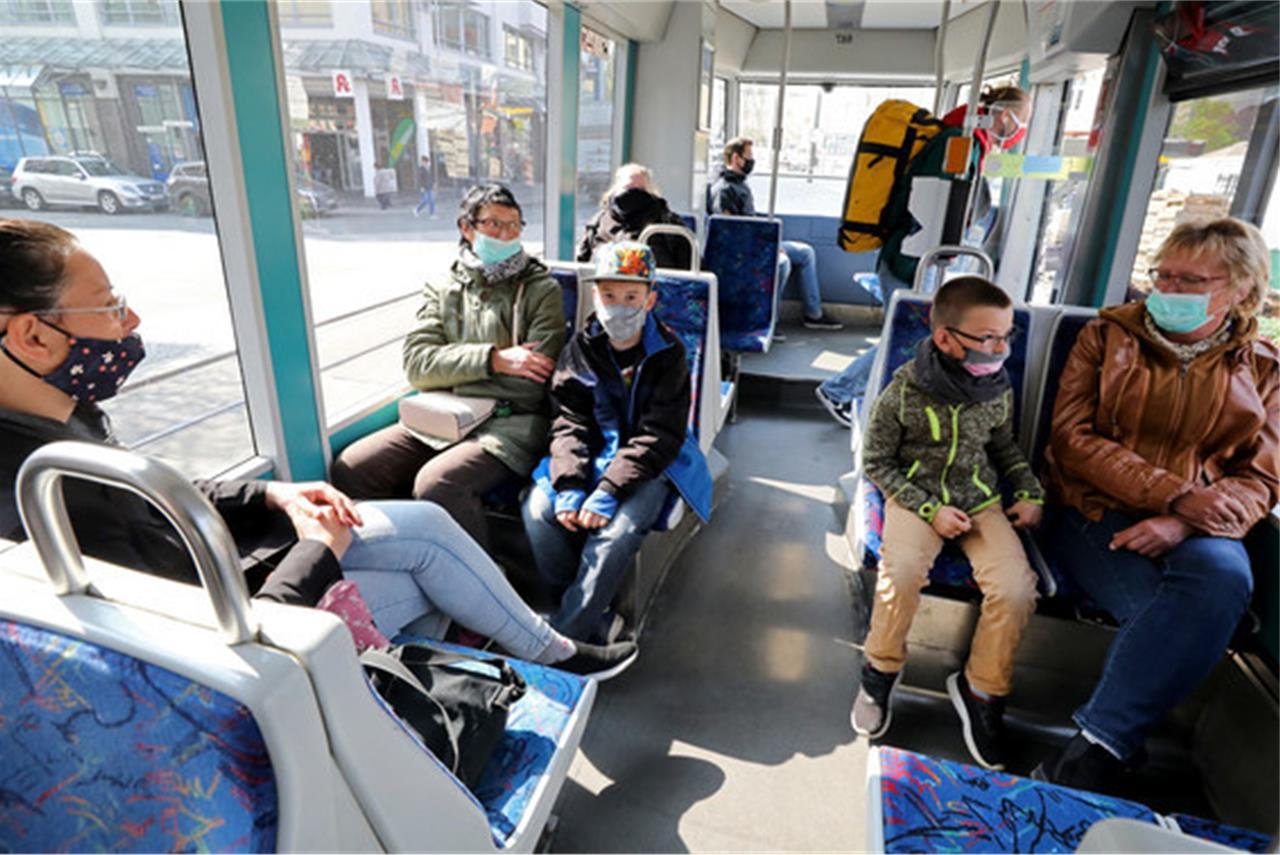mask_weared_incorrect: (43, 268, 144, 397), (954, 320, 1016, 376)
with_mask: (1136, 270, 1221, 335), (593, 290, 648, 341), (472, 214, 526, 258), (994, 103, 1040, 150), (610, 173, 656, 217), (732, 146, 760, 177)
